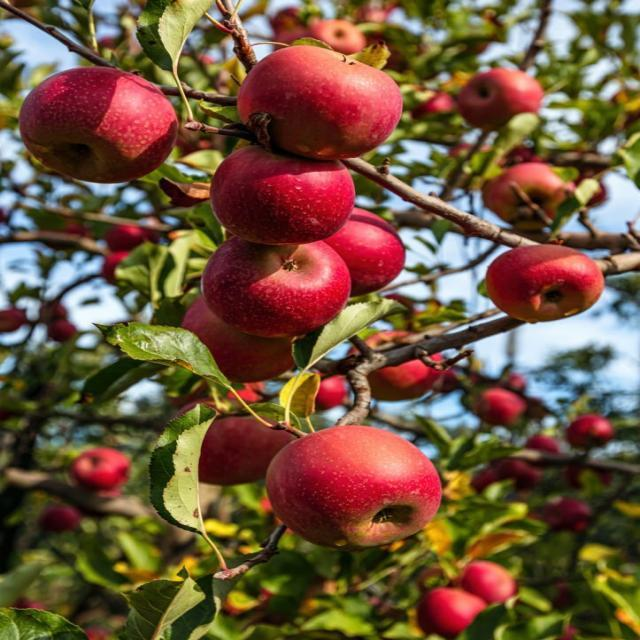Red Apple: (265, 423, 446, 543), (250, 47, 405, 156), (24, 69, 183, 171), (213, 145, 355, 240), (177, 293, 306, 378), (206, 236, 341, 313), (484, 241, 606, 324), (186, 392, 295, 472), (322, 203, 400, 286), (484, 161, 575, 229), (357, 331, 444, 392), (459, 67, 546, 125), (457, 559, 517, 604), (418, 589, 476, 629), (78, 451, 130, 491), (310, 21, 367, 55), (476, 390, 526, 419), (316, 371, 346, 411), (575, 417, 616, 444), (557, 496, 591, 528), (416, 92, 453, 121), (503, 458, 541, 484), (277, 11, 307, 41), (527, 430, 561, 454), (112, 222, 142, 248), (49, 503, 79, 527), (101, 253, 128, 278), (1, 306, 24, 334), (477, 462, 499, 491), (506, 371, 528, 398), (16, 596, 43, 613), (52, 318, 72, 340), (81, 626, 102, 640)
